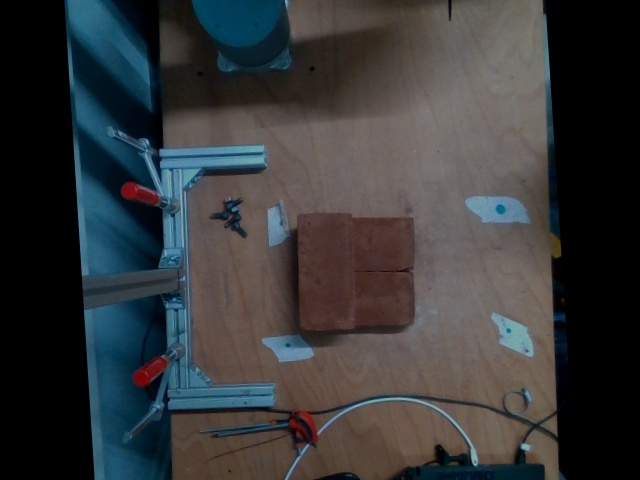brick: (300, 215, 352, 329)
